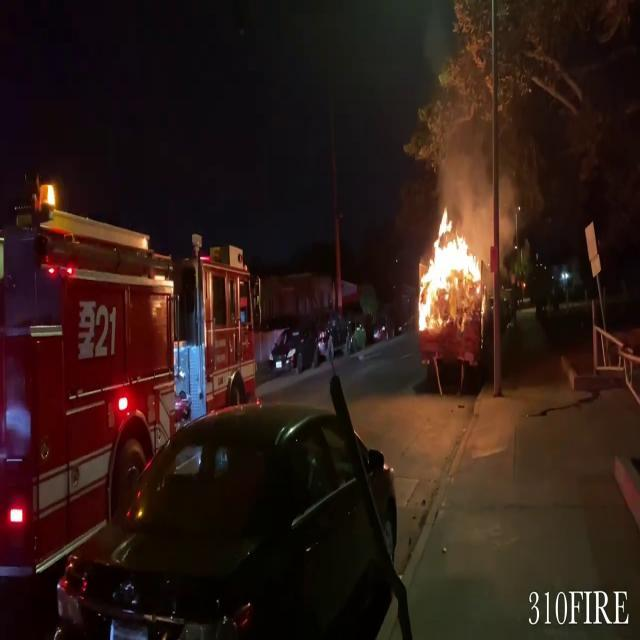Fire: (414, 205, 487, 338)
Smoke: (437, 122, 530, 256)
